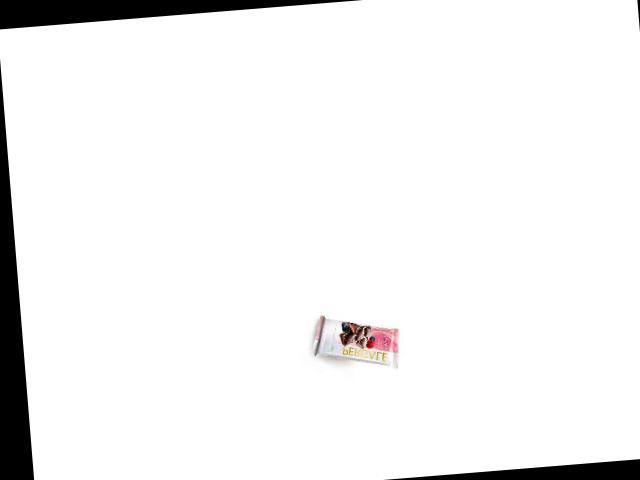chocolate: (313, 307, 400, 374)
